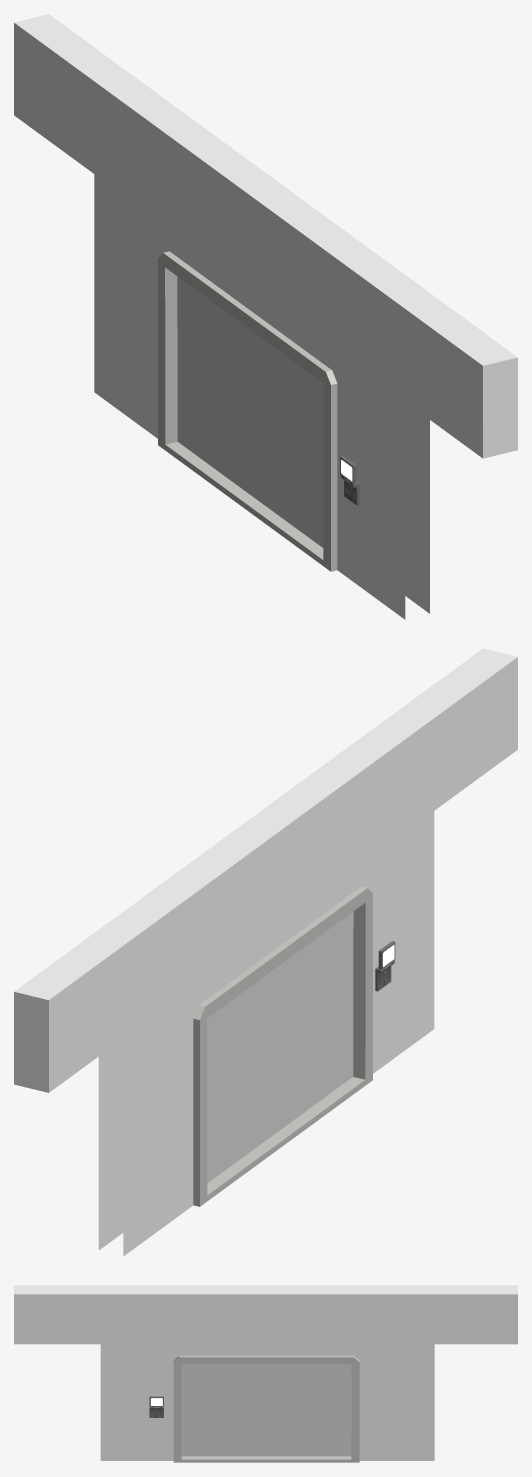
Rendered from Pfb_LabDoor__2.fbx.
3 views of the same model, one above another, from view 1: azimuth 30°, elevation 25°; view 2: azimuth 150°, elevation 25°; view 3: azimuth 270°, elevation 25° (orthographic). The views are drawn at different scales.
Parts seen in each view (by area): view 1: Lab_Wall_Red, LabDoor, Mat_Computer_01_01; view 2: Lab_Wall_Red, LabDoor, Mat_Computer_01_01; view 3: Lab_Wall_Red, LabDoor, Mat_Computer_01_01.
Part boxes in pixels (<box>): Lab_Wall_Red: <box>14,14,517,619</box>; LabDoor: <box>158,251,337,571</box>; Mat_Computer_01_01: <box>340,455,359,505</box>; Lab_Wall_Red: <box>14,648,517,1256</box>; LabDoor: <box>193,886,372,1206</box>; Mat_Computer_01_01: <box>375,941,395,991</box>; Lab_Wall_Red: <box>14,1285,517,1460</box>; LabDoor: <box>173,1355,359,1462</box>; Mat_Computer_01_01: <box>149,1396,163,1417</box>.
Bounding box in the file's own units: 0.5127 × 4 × 10.84.
4 materials, 4 textured.
